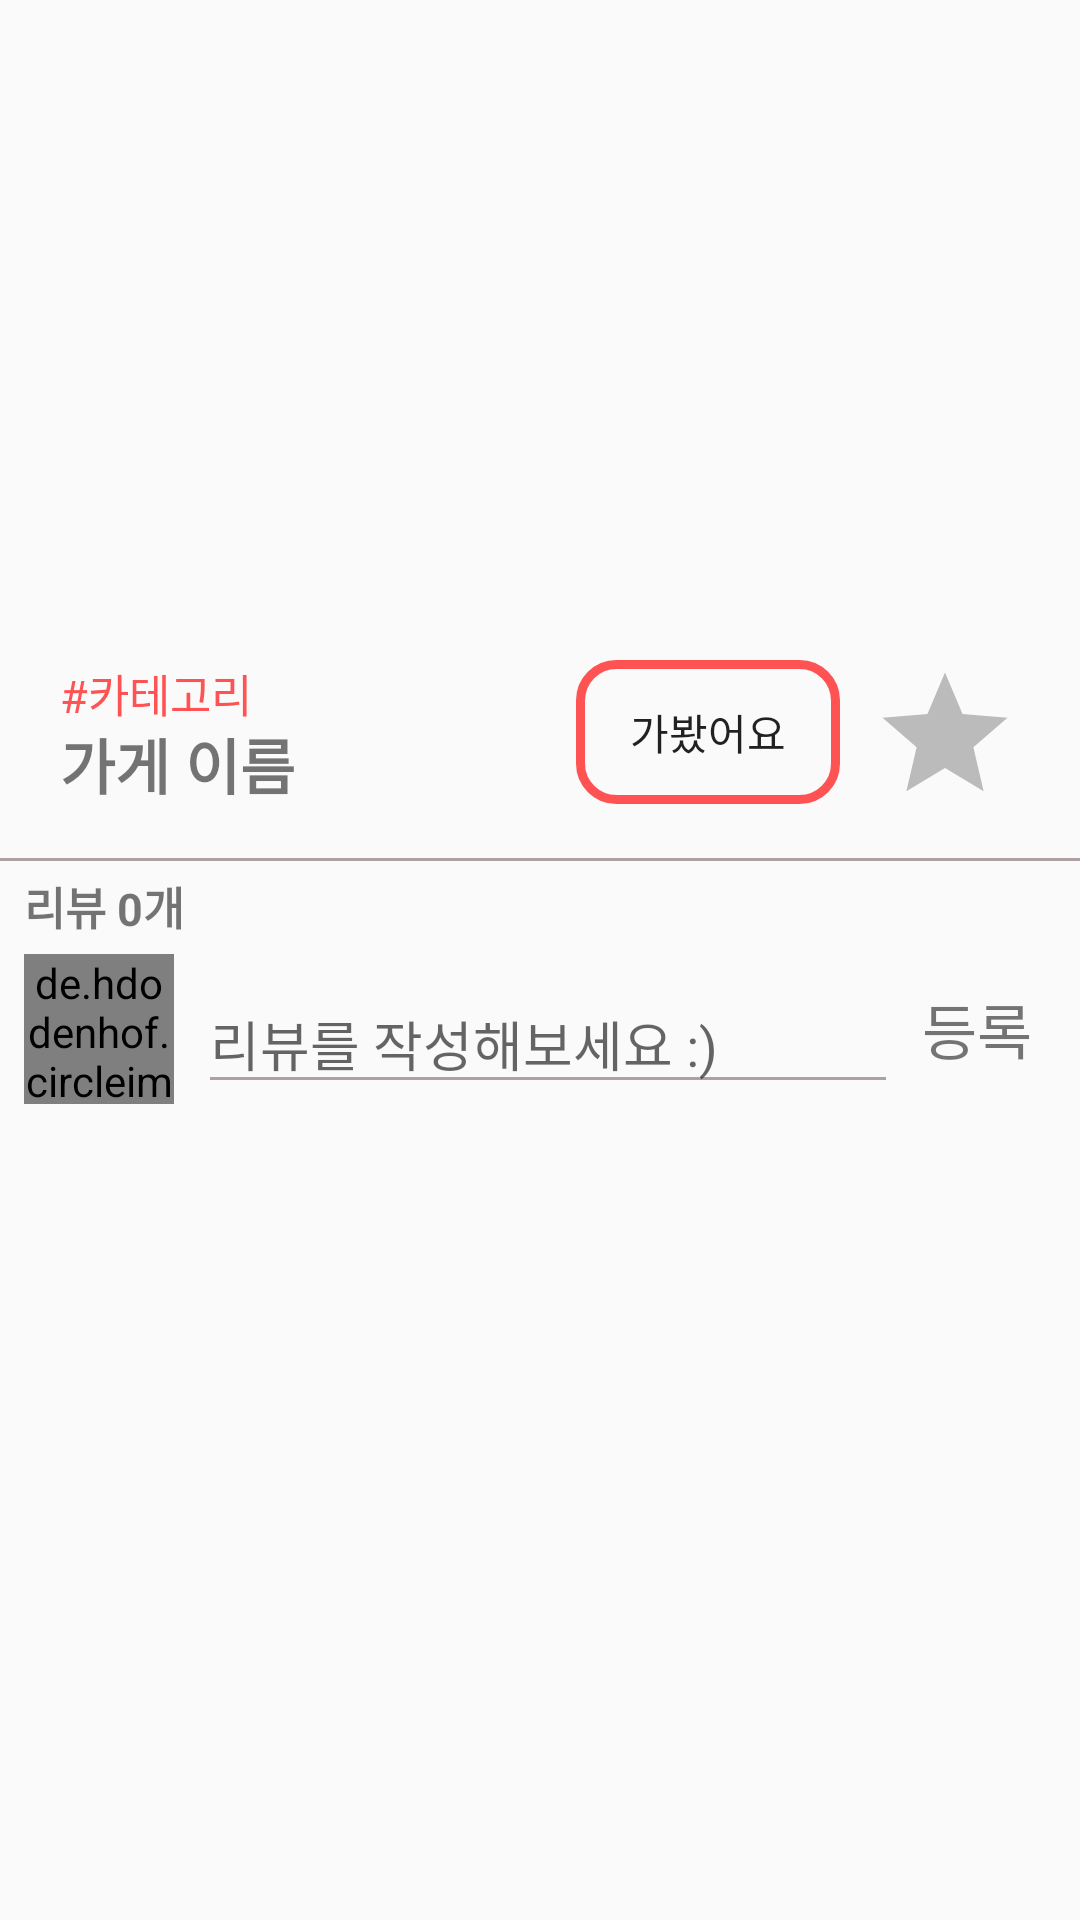

Named icons in this screenshot (1080*1920) and their bounding boxes, (x1, y1, x2, y2):
star: (883, 673, 1007, 791)
